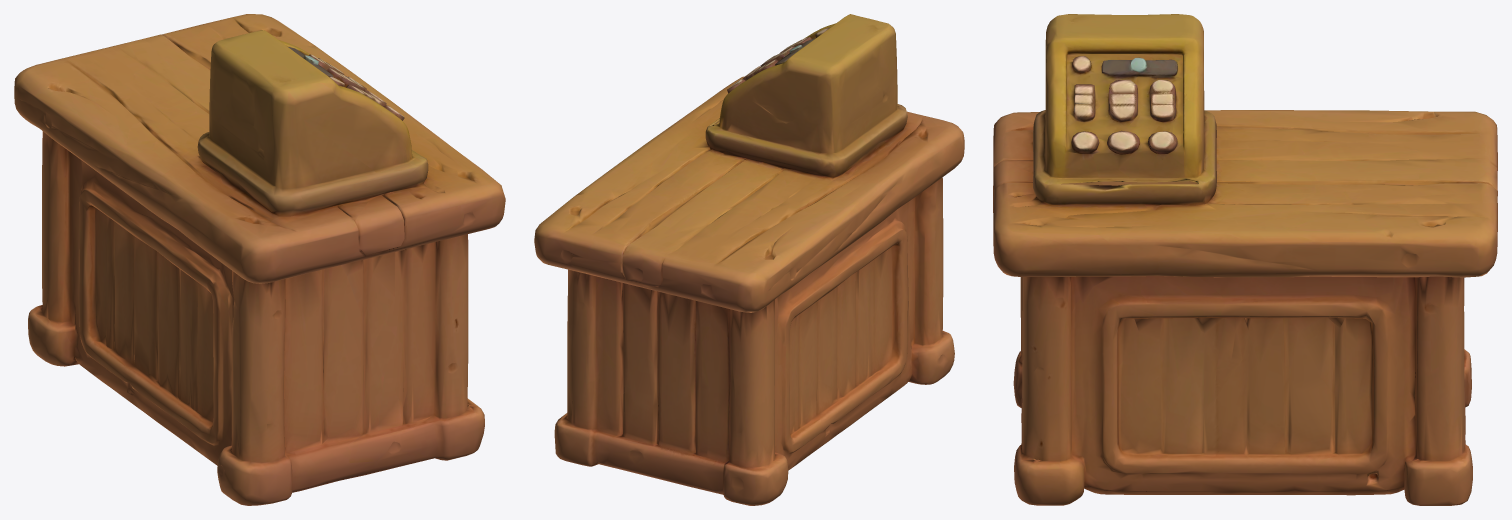
Rendered from counter.glb.
The picture shows the model from 3 angles, left to right: view 1: azimuth 30°, elevation 25°; view 2: azimuth 150°, elevation 25°; view 3: azimuth 270°, elevation 25°; orthographic projection. The views are drawn at different scales.
Parts seen in each view (by area): view 1: tripo_node_cc0a2e8b-5fdf-442f-a0c8-86dbdad09784; view 2: tripo_node_cc0a2e8b-5fdf-442f-a0c8-86dbdad09784; view 3: tripo_node_cc0a2e8b-5fdf-442f-a0c8-86dbdad09784.
Part boxes in pixels (bbox=[...]): tripo_node_cc0a2e8b-5fdf-442f-a0c8-86dbdad09784: bbox=[14, 14, 505, 505]; tripo_node_cc0a2e8b-5fdf-442f-a0c8-86dbdad09784: bbox=[534, 14, 964, 505]; tripo_node_cc0a2e8b-5fdf-442f-a0c8-86dbdad09784: bbox=[993, 14, 1497, 505].
Bounding box in the file's own units: 0.6137 × 0.8785 × 0.9996.
1 material, 1 textured.
